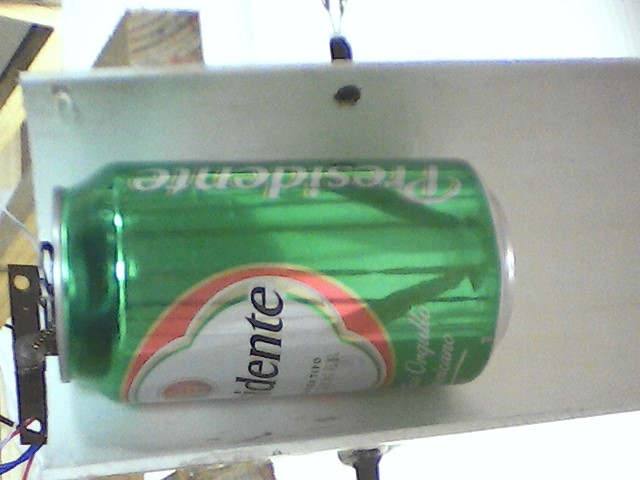lata: (48, 153, 525, 414)
